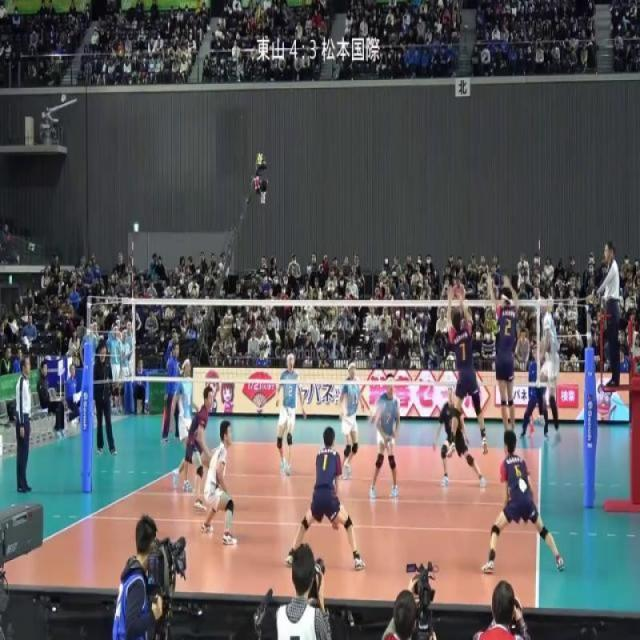volleyball: (370, 408, 382, 425)
